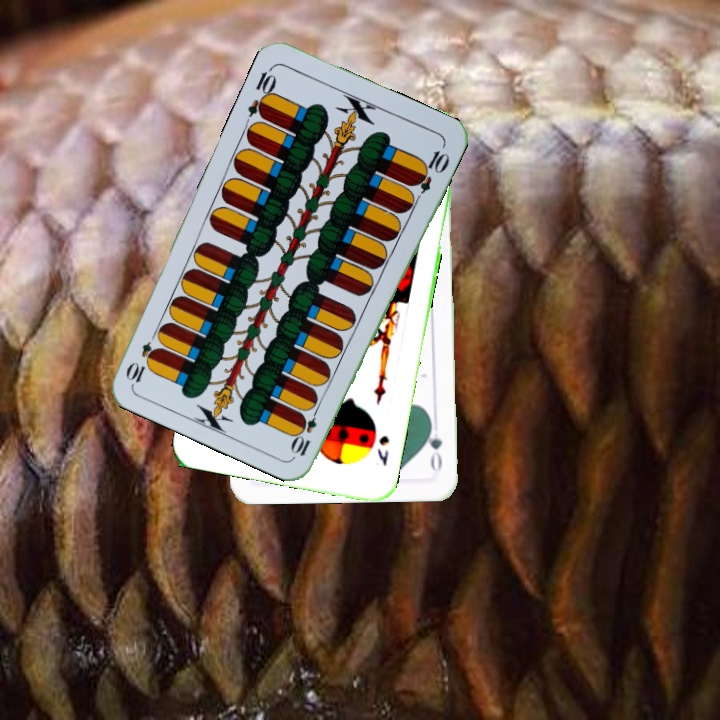E10: (243, 63, 280, 121), (290, 401, 322, 459)
GO: (422, 416, 445, 474)
SK: (373, 431, 392, 468)
